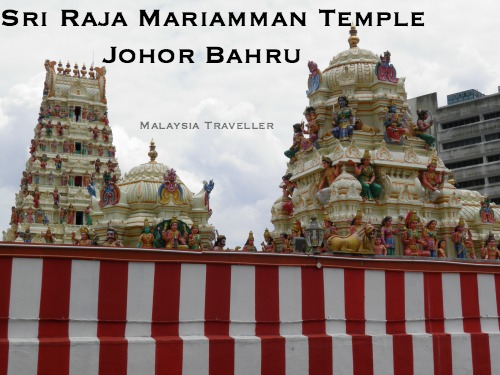Hindu Temple: (282, 30, 494, 249), (20, 55, 200, 248)
